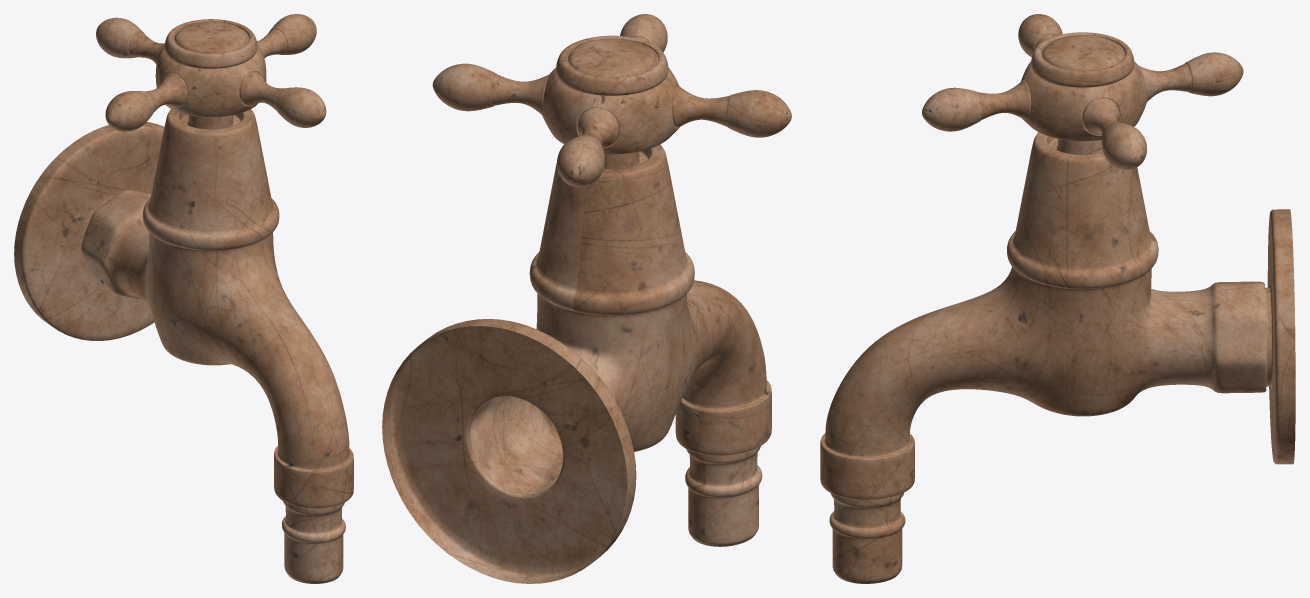
Rendered from antique_water_faucet.obj.
3 views of the same model, side by side, from view 1: azimuth 30°, elevation 25°; view 2: azimuth 150°, elevation 25°; view 3: azimuth 270°, elevation 25° (orthographic). The views are drawn at different scales.
Visible parts, largest first — view 1: obj1, obj2; view 2: obj1, obj2; view 3: obj1, obj2.
Boxes of the visible parts, <box> form: obj1: <box>14,109,353,583</box>; obj2: <box>96,14,326,131</box>; obj1: <box>382,144,771,583</box>; obj2: <box>432,14,791,187</box>; obj1: <box>820,132,1295,583</box>; obj2: <box>922,14,1243,169</box>.
Size of the model in its own units: 0.2017 by 0.36 by 0.2982.
Materials: 1 (1 with a texture image).
